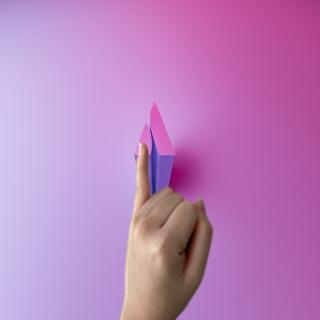Fine: (119, 135, 226, 317)
